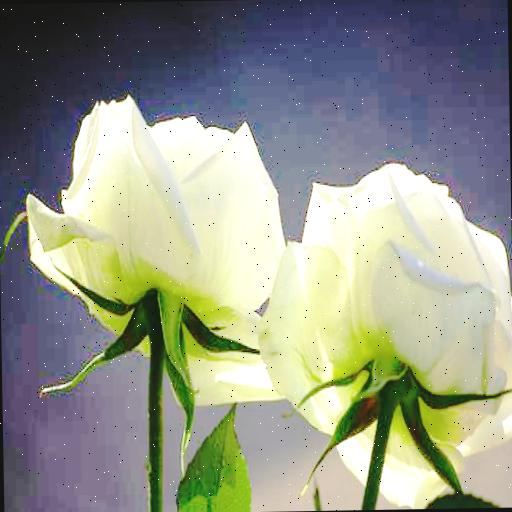rose: (23, 92, 294, 410)
